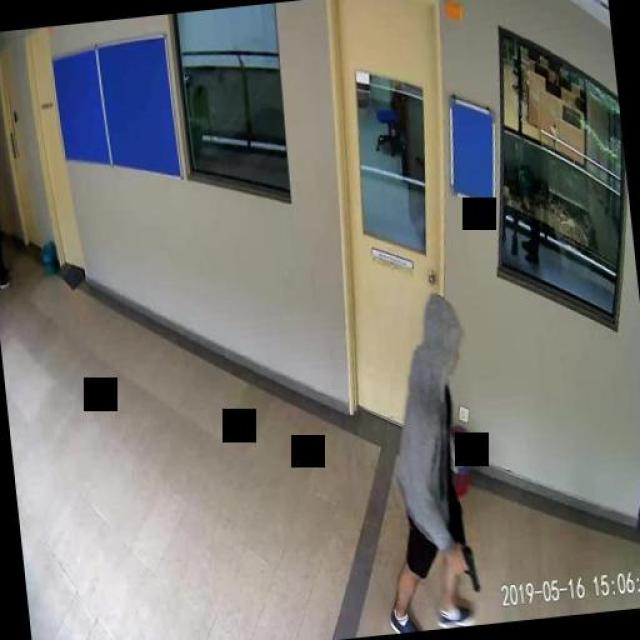gun: (447, 541, 478, 591)
